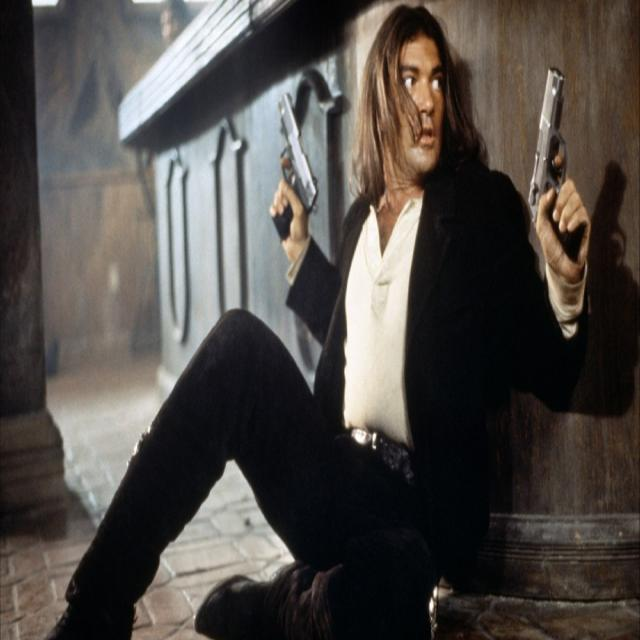weapons: (510, 16, 610, 298), (240, 55, 348, 298)
